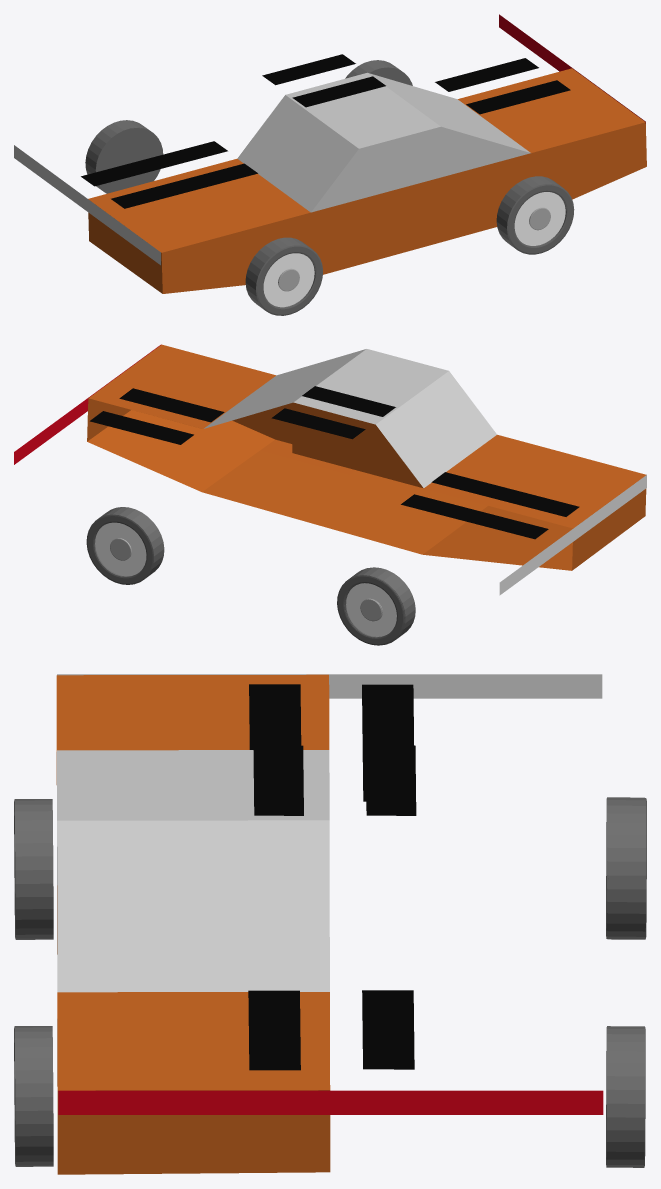
The model's file is car.gltf.
3 views of the same model, one above another, from view 1: azimuth 30°, elevation 25°; view 2: azimuth 150°, elevation 25°; view 3: azimuth 270°, elevation 25° (orthographic). The views are drawn at different scales.
Parts seen in each view (by area): view 1: Cube, Cylinder.002, Cylinder.000, Cylinder.003, Plane.007, Plane.002, Plane.001, Plane.003, Plane.004, Plane.005, Plane.006, Plane.000 (+1 smaller); view 2: Cube, Cylinder.004, Cylinder.001, Plane.007, Plane.002, Plane.001, Plane.003, Plane.004, Plane.005, Plane.006, Plane.000, Cylinder.003; view 3: Cube, Plane.000, Plane.007, Cylinder.004, Cylinder.002, Cylinder.000, Cylinder.001, Plane.003, Plane.004, Plane.005, Plane.006, Plane.001 (+1 smaller).
Boxes of the visible parts, box(x1,y1,x2,y2) form: Cube: box(88, 68, 646, 293); Cylinder.002: box(245, 237, 322, 315); Cylinder.000: box(496, 176, 574, 254); Cylinder.003: box(85, 121, 162, 193); Plane.007: box(14, 145, 160, 265); Plane.002: box(111, 163, 257, 208); Plane.001: box(81, 141, 227, 186); Plane.003: box(466, 80, 570, 114); Plane.004: box(435, 58, 538, 91); Plane.005: box(292, 76, 385, 107); Plane.006: box(262, 54, 355, 85); Plane.000: box(499, 14, 645, 123); Cube: box(87, 344, 646, 570); Cylinder.004: box(86, 507, 164, 584); Cylinder.001: box(337, 567, 404, 645); Plane.007: box(499, 475, 646, 595); Plane.002: box(431, 472, 579, 516); Plane.001: box(401, 494, 548, 539); Plane.003: box(119, 388, 224, 422); Plane.004: box(90, 411, 193, 444); Plane.005: box(302, 386, 395, 416); Plane.006: box(271, 408, 365, 439); Plane.000: box(14, 344, 161, 464); Cylinder.003: box(345, 567, 415, 644); Cube: box(56, 674, 330, 1174); Plane.000: box(58, 1090, 603, 1114); Plane.007: box(57, 674, 602, 698); Cylinder.004: box(606, 1026, 645, 1167); Cylinder.002: box(14, 799, 53, 939); Cylinder.000: box(14, 1026, 53, 1166); Cylinder.001: box(607, 798, 646, 939); Plane.003: box(248, 990, 300, 1070); Plane.004: box(362, 990, 414, 1069); Plane.005: box(253, 745, 303, 815); Plane.006: box(365, 745, 416, 815); Plane.001: box(362, 684, 414, 801).
Bounding box in the file's own units: 4.01 × 1.12 × 2.44.
